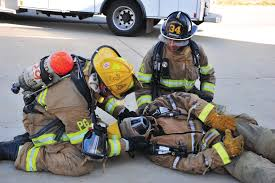emergent: (17, 52, 129, 172), (122, 93, 274, 180), (137, 11, 220, 104)
